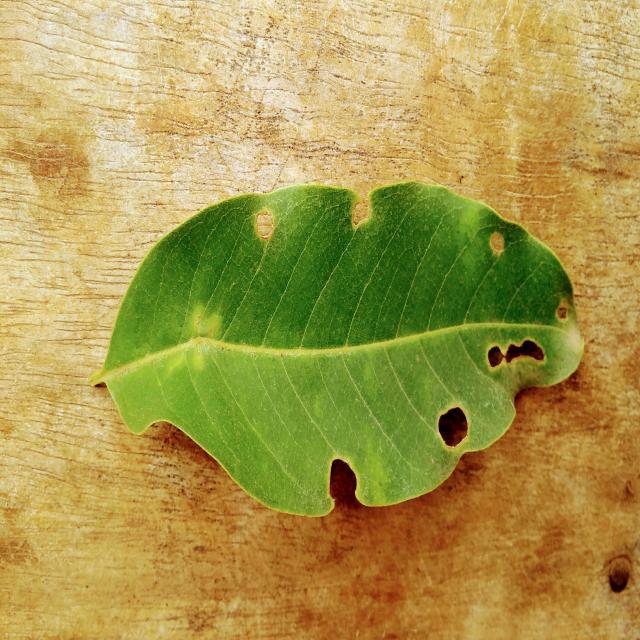leaf spot: (91, 182, 582, 516)
